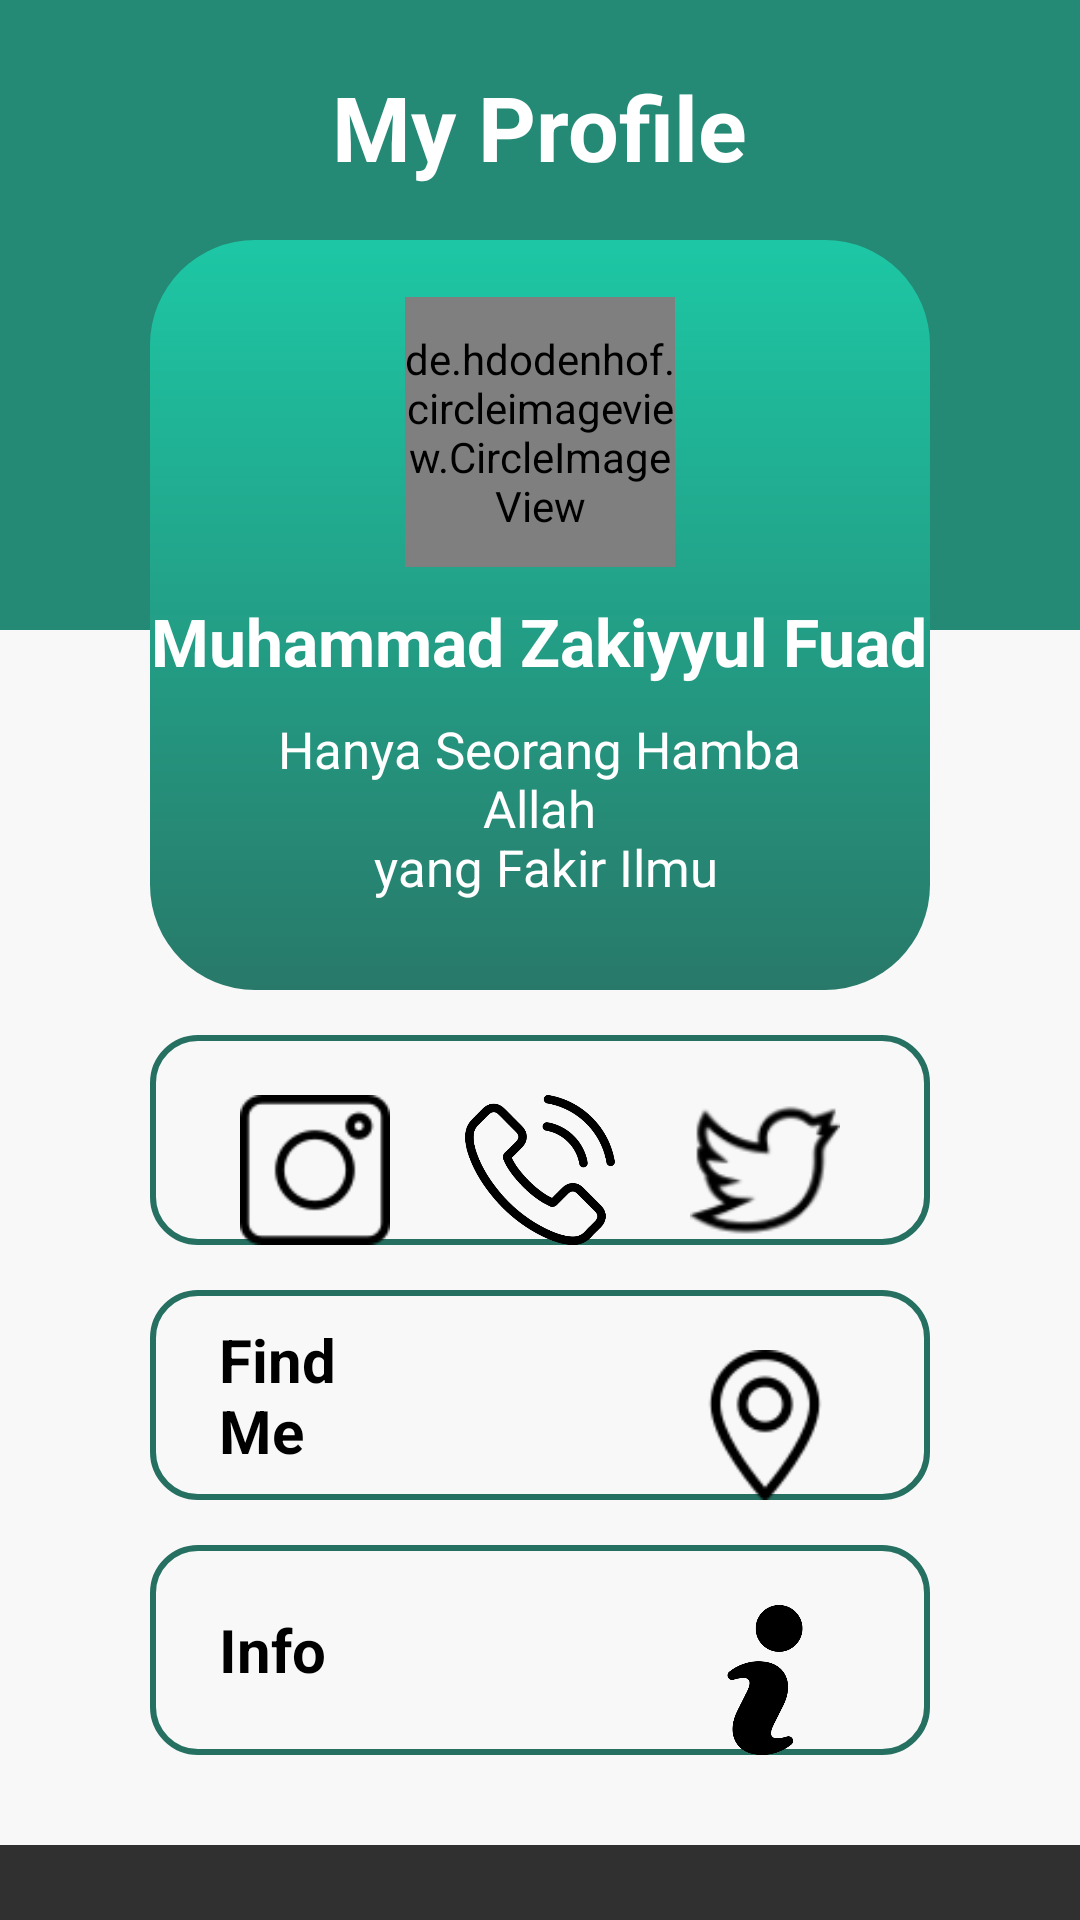

Icons on this 1080w x 1920h Android screen, each with the point to tap as point (x, y):
information: point (765, 1680)
maps: point (765, 1425)
